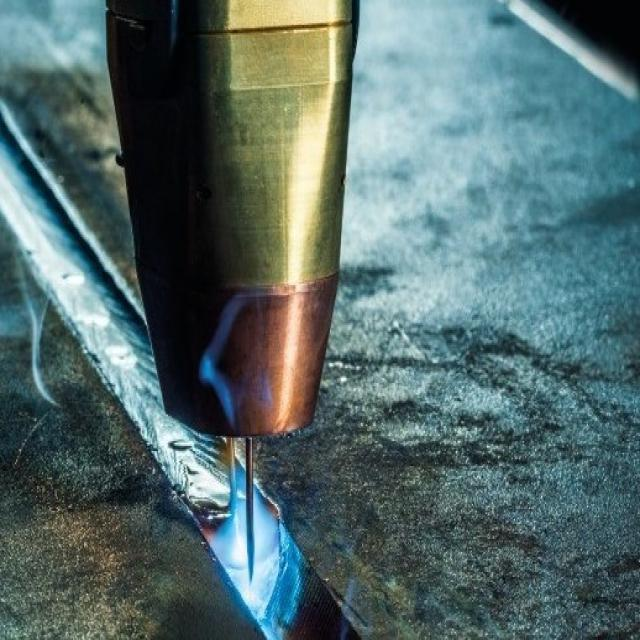welding: (230, 513, 247, 568)
